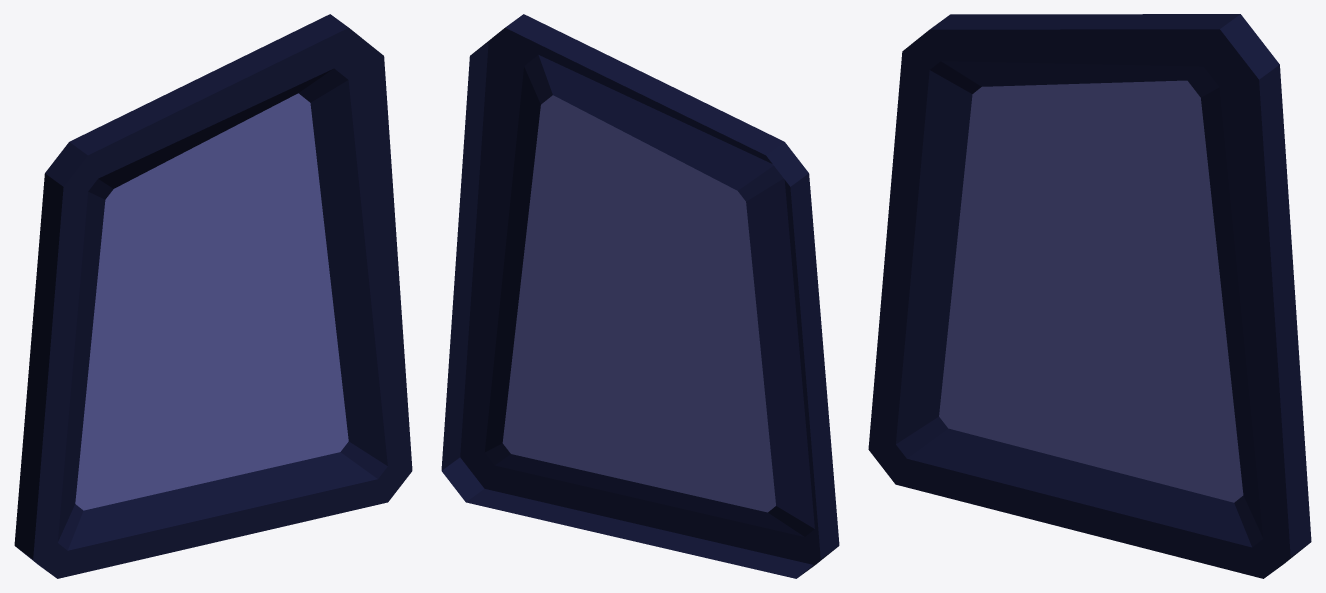
The model's file is MDL_Espejo.FBX.
3 views of the same model, side by side, from view 1: azimuth 30°, elevation 25°; view 2: azimuth 150°, elevation 25°; view 3: azimuth 330°, elevation 25° (orthographic). The views are drawn at different scales.
Parts seen in each view (by area): view 1: Object003; view 2: Object003; view 3: Object003.
Boxes of the visible parts, x1,y1,x2,y2 form: Object003: [14, 14, 412, 578]; Object003: [441, 14, 839, 578]; Object003: [868, 14, 1311, 578].
Bounding box in the file's own units: 71.28 × 86.96 × 6.08.
